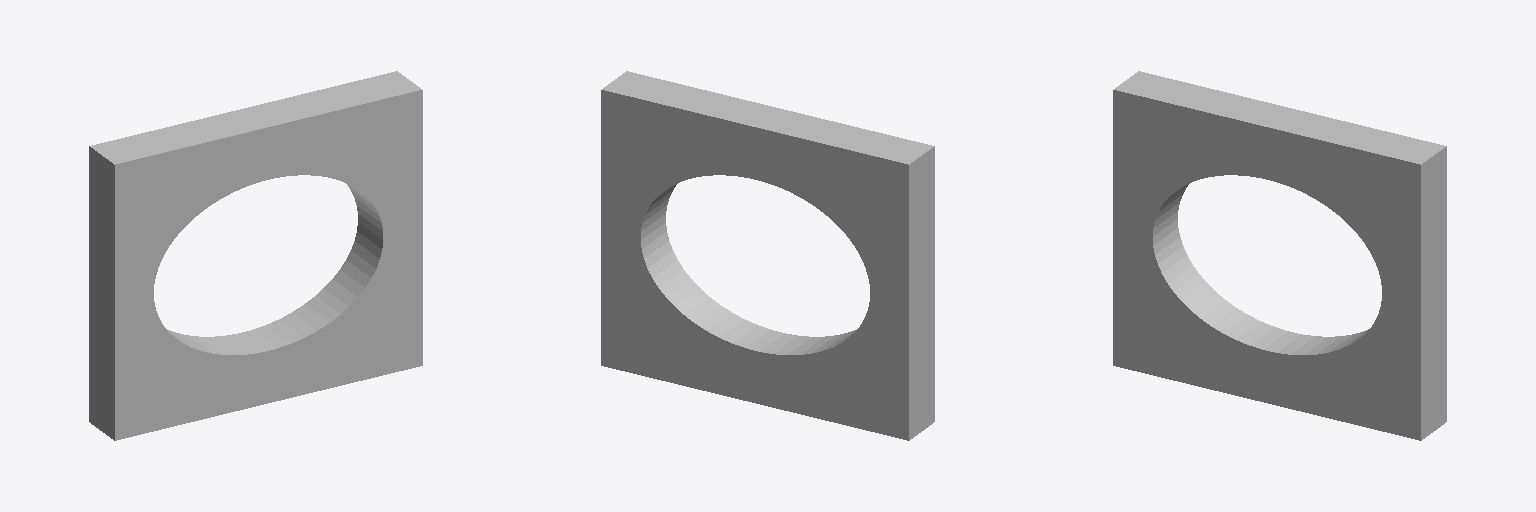
Rendered from ellipse_hole.obj.
3 renders of one model, left to right at view 1: azimuth 30°, elevation 25°; view 2: azimuth 150°, elevation 25°; view 3: azimuth 330°, elevation 25°, orthographic.
Bounding box in the file's own units: 0.07 × 0.06 × 0.01.